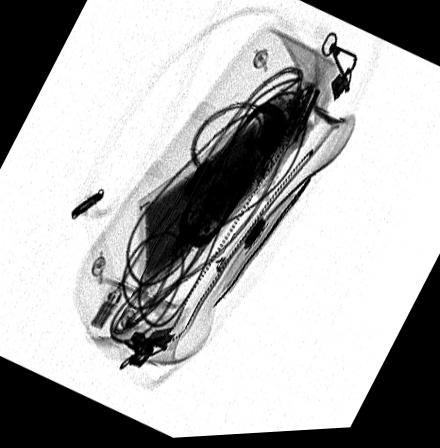Powerbank: (138, 101, 278, 292)
